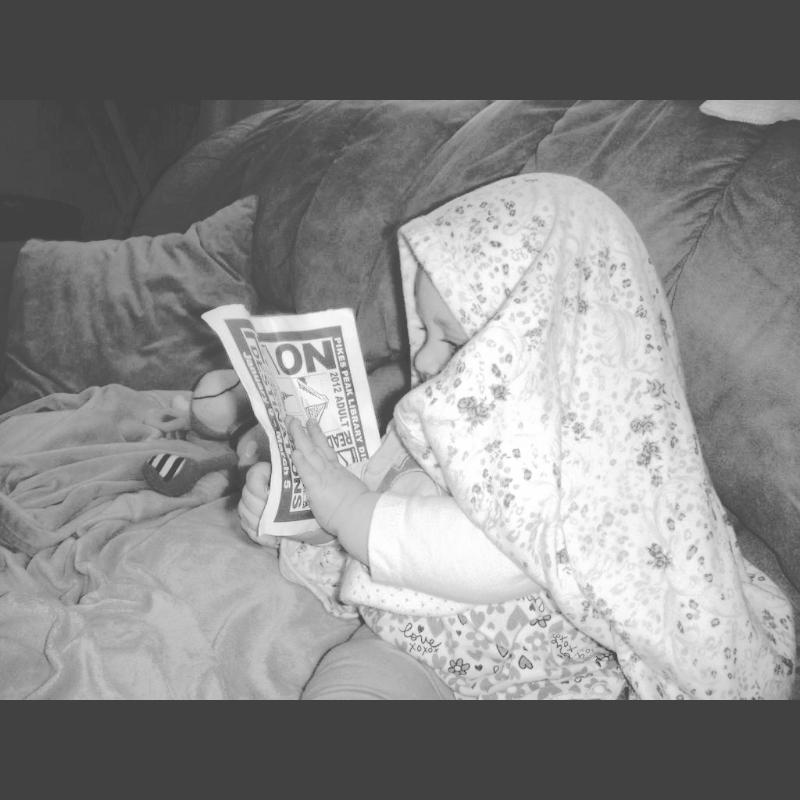pillow: (5, 196, 258, 414)
